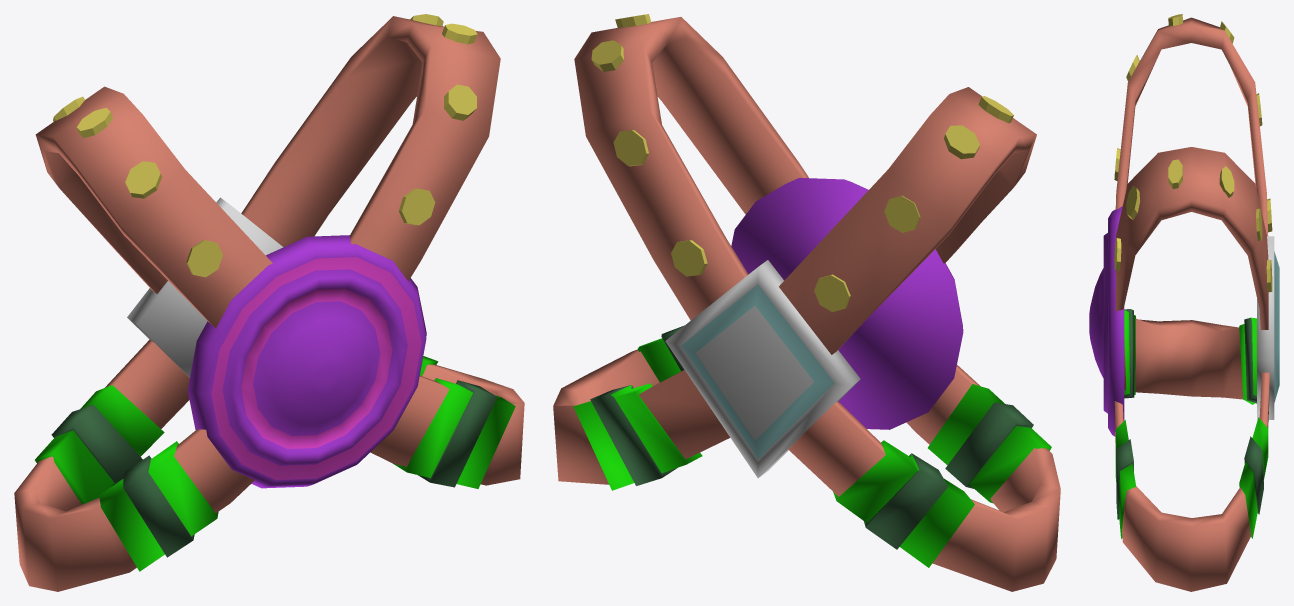
File: barb_shirt_mesh_only.fbx
3 views of the same model, side by side, from view 1: azimuth 30°, elevation 25°; view 2: azimuth 150°, elevation 25°; view 3: azimuth 270°, elevation 25° (orthographic). The views are drawn at different scales.
Parts seen in each view (by area): view 1: BackMedalion; view 2: BackMedalion; view 3: BackMedalion.
Part boxes in pixels (<box>): BackMedalion: <box>14,14,524,591</box>; BackMedalion: <box>553,14,1060,591</box>; BackMedalion: <box>1089,14,1279,591</box>.
Size of the model in its own units: 32.37 by 29.55 by 12.57.
